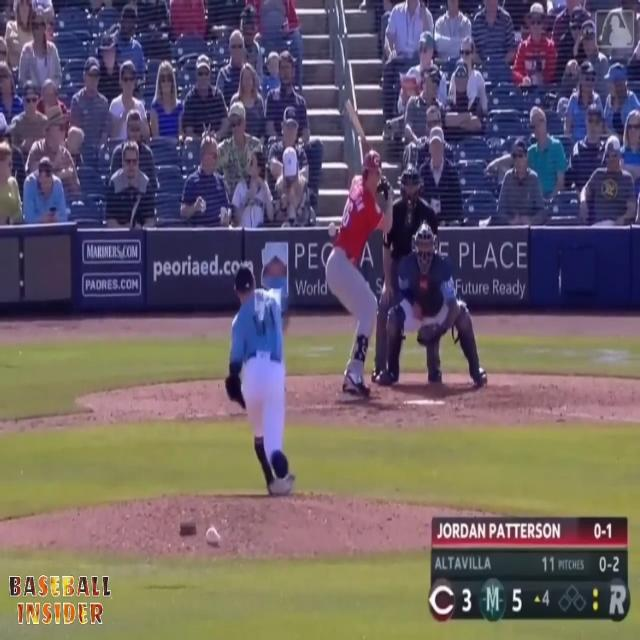baseball: (327, 221, 337, 238)
